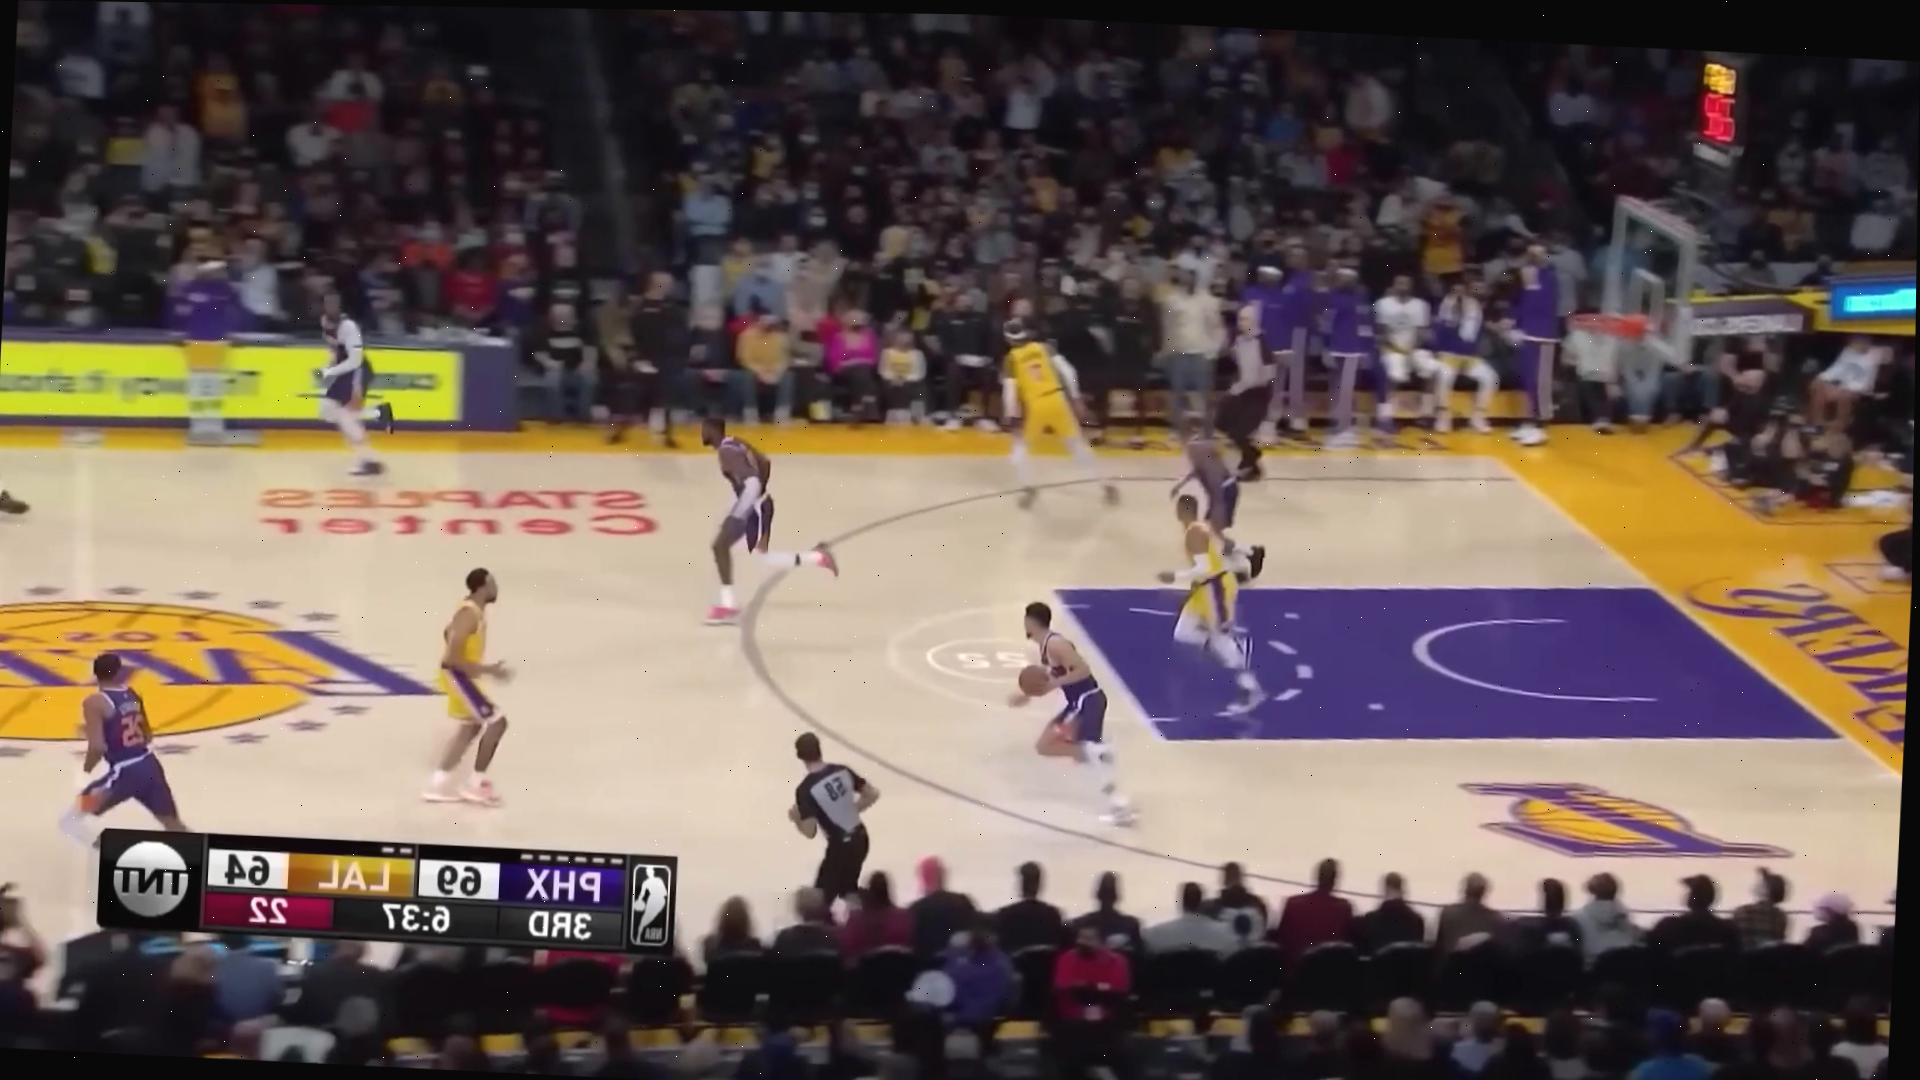no_foul: (1135, 411, 1304, 720)
